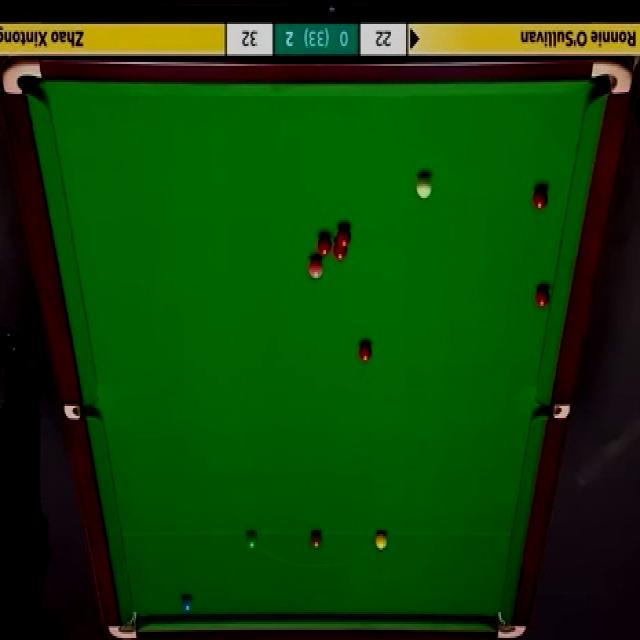blue-ball: (182, 592, 192, 613)
brown-ball: (310, 531, 323, 548)
green-ball: (244, 528, 258, 552)
pink-ball: (308, 257, 324, 281)
red-ball: (534, 284, 552, 310), (532, 185, 548, 213), (316, 233, 332, 257), (333, 238, 347, 262), (358, 343, 374, 362), (337, 227, 351, 248)
white-ball: (416, 175, 432, 197)
yellow-ball: (374, 530, 388, 551)
